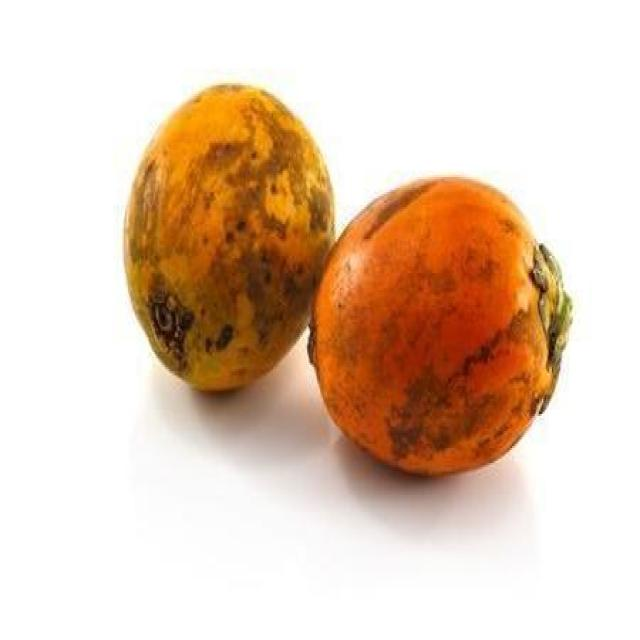good: (309, 177, 572, 478), (122, 83, 337, 397)
